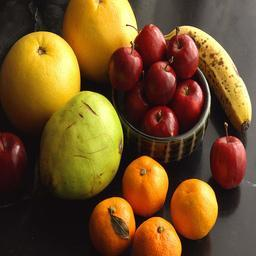apple: (208, 133, 247, 189), (106, 46, 143, 91), (1, 131, 28, 190), (166, 33, 199, 79), (131, 24, 167, 65), (143, 61, 176, 103), (140, 104, 179, 137), (173, 81, 203, 123)
